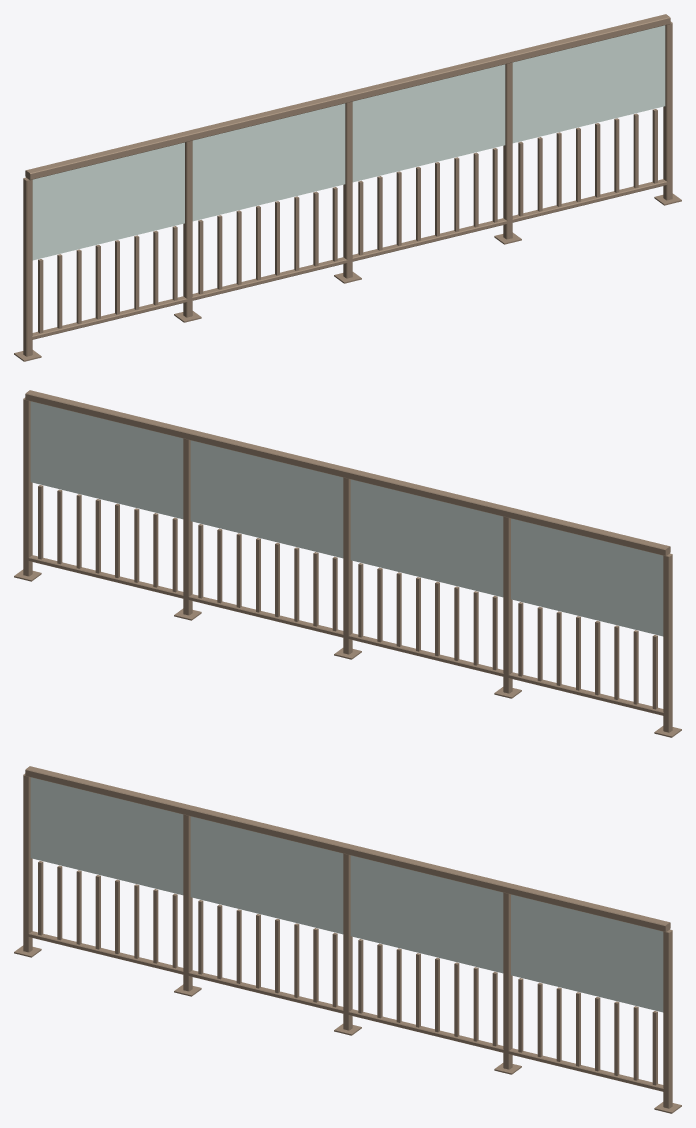
The model's file is gc-s80b-mixte-400-quartz-1019.glb.
3 views of the same model, one above another, from view 1: azimuth 30°, elevation 25°; view 2: azimuth 150°, elevation 25°; view 3: azimuth 330°, elevation 25° (orthographic).
Visible parts, largest first — view 1: verre, structure; view 2: verre, structure; view 3: verre, structure.
Boxes of the visible parts, <box> form: verre: <box>32,25,665,260</box>; structure: <box>14,14,681,361</box>; verre: <box>30,401,663,636</box>; structure: <box>14,390,681,737</box>; verre: <box>30,777,663,1012</box>; structure: <box>14,766,681,1113</box>.
Size of the model in its own units: 4.11 by 1.1 by 0.11.
